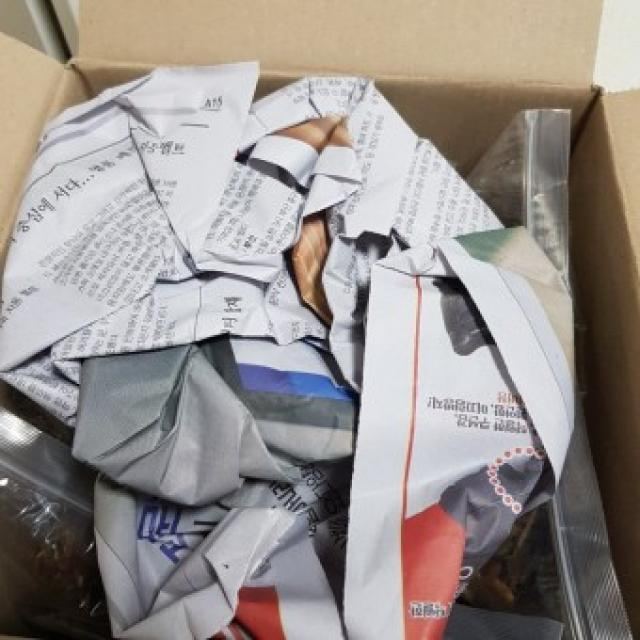Newspaper: (0, 63, 636, 640)
